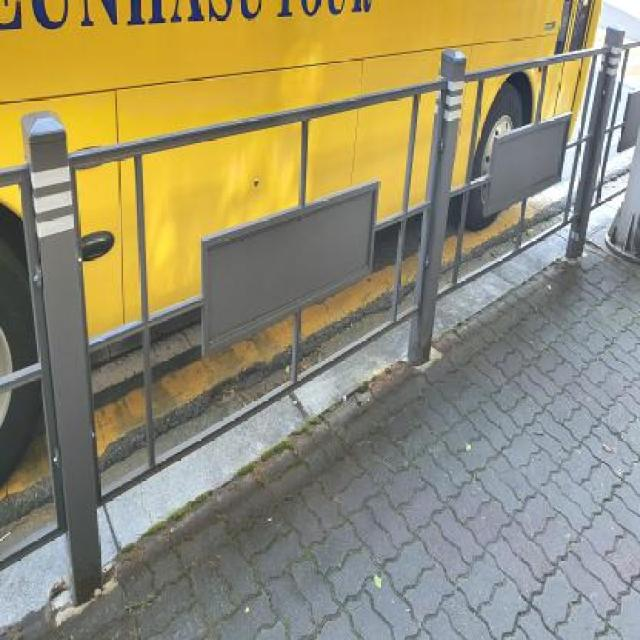fence: (5, 58, 483, 561), (406, 9, 640, 382)
